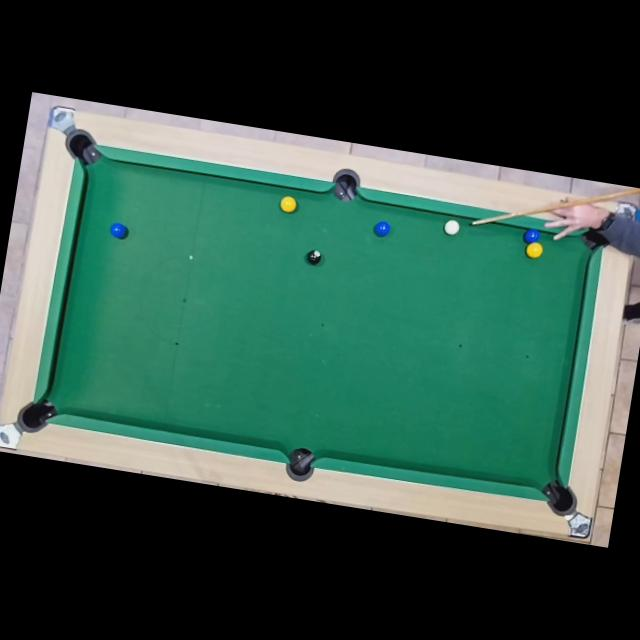Ball: (108, 222, 128, 240), (522, 228, 540, 246), (526, 243, 544, 260), (280, 196, 298, 213), (374, 220, 391, 237), (444, 219, 461, 236), (306, 250, 323, 266)
